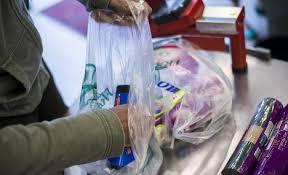Plastic bag: (70, 7, 165, 175), (136, 34, 234, 152)
